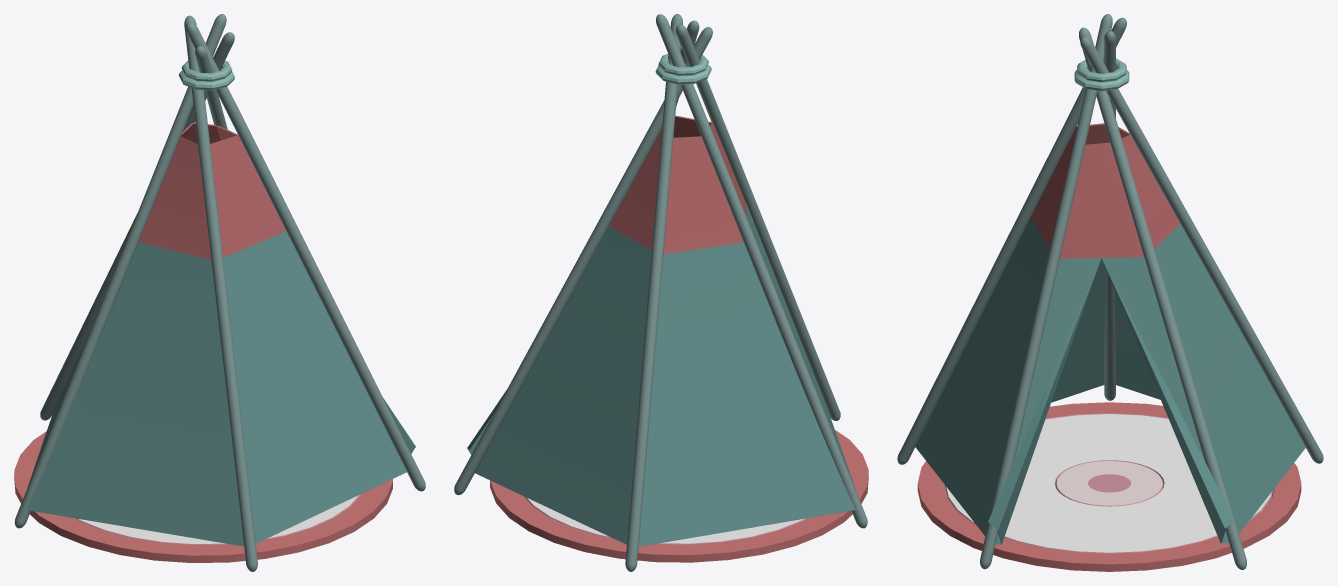
The model's file is Furn3_playzone_color1_joined.fbx.
3 renders of one model, left to right at view 1: azimuth 30°, elevation 25°; view 2: azimuth 150°, elevation 25°; view 3: azimuth 270°, elevation 25°, orthographic.
Visible parts, largest first — view 1: Цилиндр.042; view 2: Цилиндр.042; view 3: Цилиндр.042.
Boxes of the visible parts, x1=… form: Цилиндр.042: x1=14, y1=14, x2=425, y2=571; Цилиндр.042: x1=454, y1=14, x2=868, y2=571; Цилиндр.042: x1=897, y1=14, x2=1323, y2=571.
Bounding box in the file's own units: 328 × 416 × 340.
